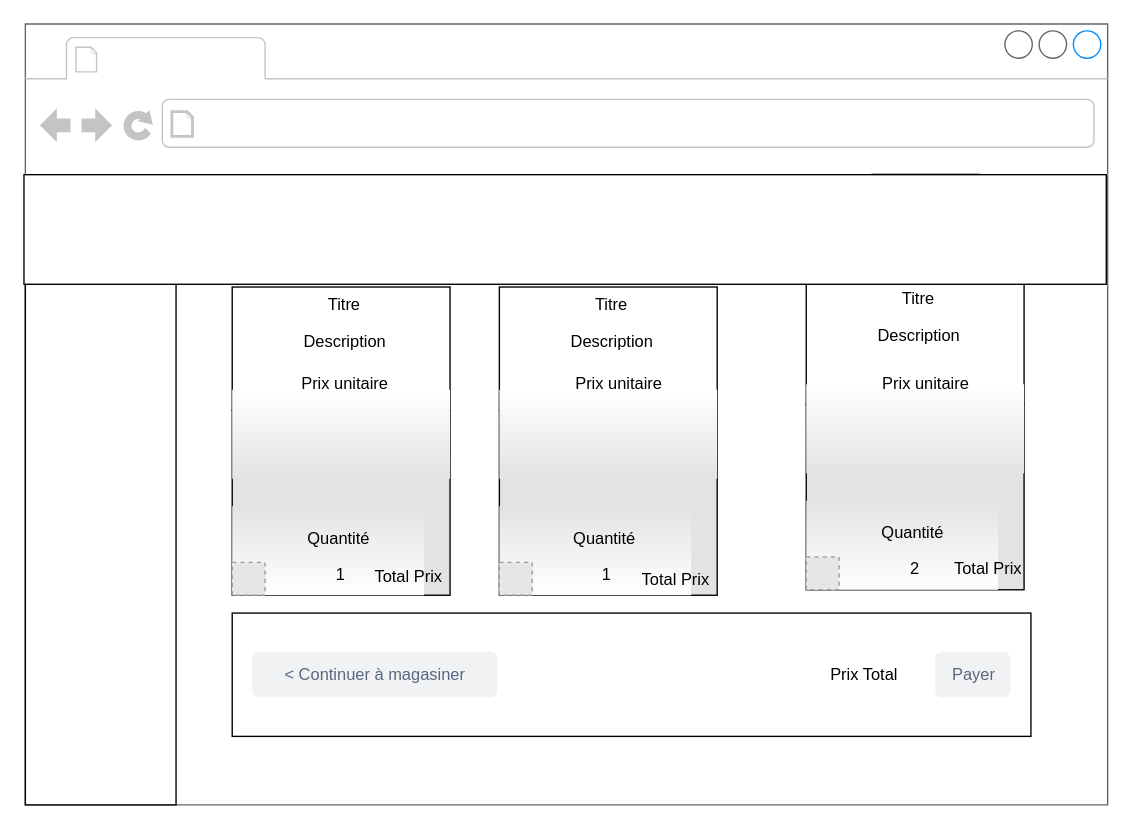
The diagram is 1132 pixels wide and 829 high, and some of its shapes have lost their labels. Grey dashed boxes stand in for pictures. The centre of each missing label's shape, as x and y in pixels:
"Barre de navigation" goes at point (564, 228).
"Page 1" goes at point (182, 57).
